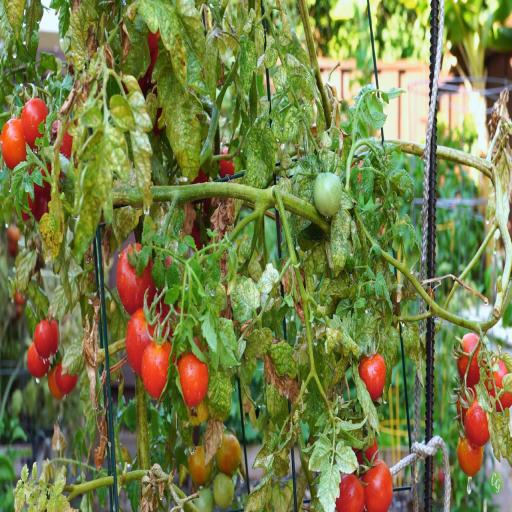Spider Mites: (72, 92, 136, 265), (152, 50, 204, 182), (138, 0, 190, 100), (120, 74, 154, 214), (172, 0, 212, 96), (242, 442, 291, 512), (242, 100, 278, 188), (293, 153, 319, 243), (265, 340, 301, 404), (352, 360, 380, 439), (330, 190, 354, 278), (302, 62, 327, 138), (375, 326, 399, 404), (400, 322, 424, 390), (207, 363, 234, 423), (68, 0, 90, 73), (229, 275, 261, 325), (205, 27, 224, 109), (302, 242, 326, 299), (316, 462, 342, 512), (239, 34, 257, 96), (486, 395, 501, 464), (308, 431, 332, 473), (3, 0, 26, 42), (245, 326, 272, 359), (59, 344, 86, 377), (256, 259, 280, 295), (475, 366, 492, 415), (266, 378, 284, 424), (336, 440, 358, 475), (375, 270, 393, 312), (500, 406, 512, 468), (322, 269, 349, 296), (328, 356, 348, 390), (282, 105, 300, 142), (206, 252, 222, 292), (151, 255, 167, 292), (408, 224, 420, 273), (273, 62, 291, 94), (136, 244, 152, 278), (341, 414, 368, 432), (264, 37, 278, 69), (52, 477, 66, 496), (15, 486, 25, 512), (320, 130, 333, 149), (255, 24, 265, 46), (46, 495, 56, 512)
